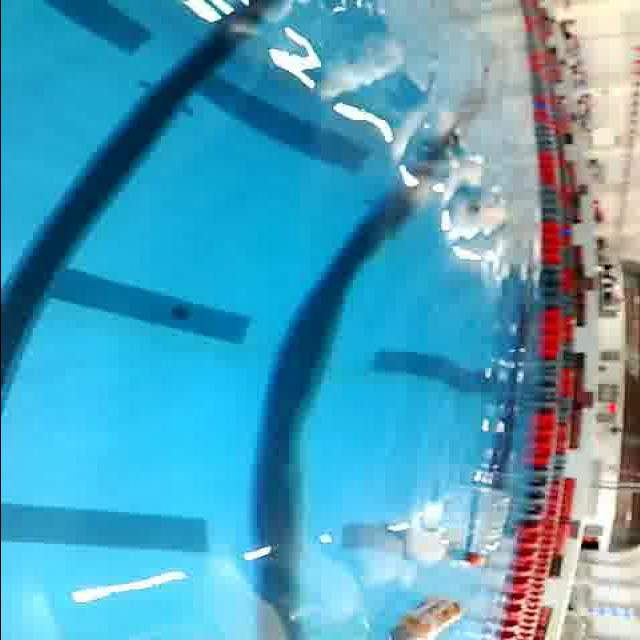Bottle: (458, 480, 512, 570), (382, 592, 468, 640)
